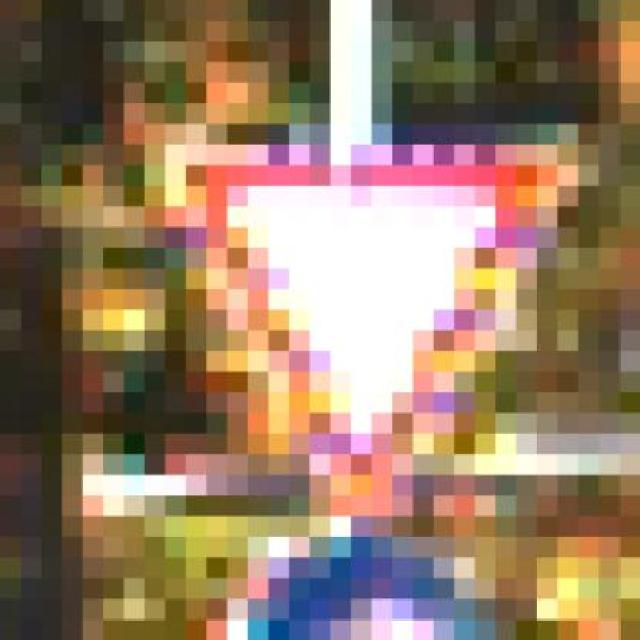Give Way: (124, 123, 578, 537)
